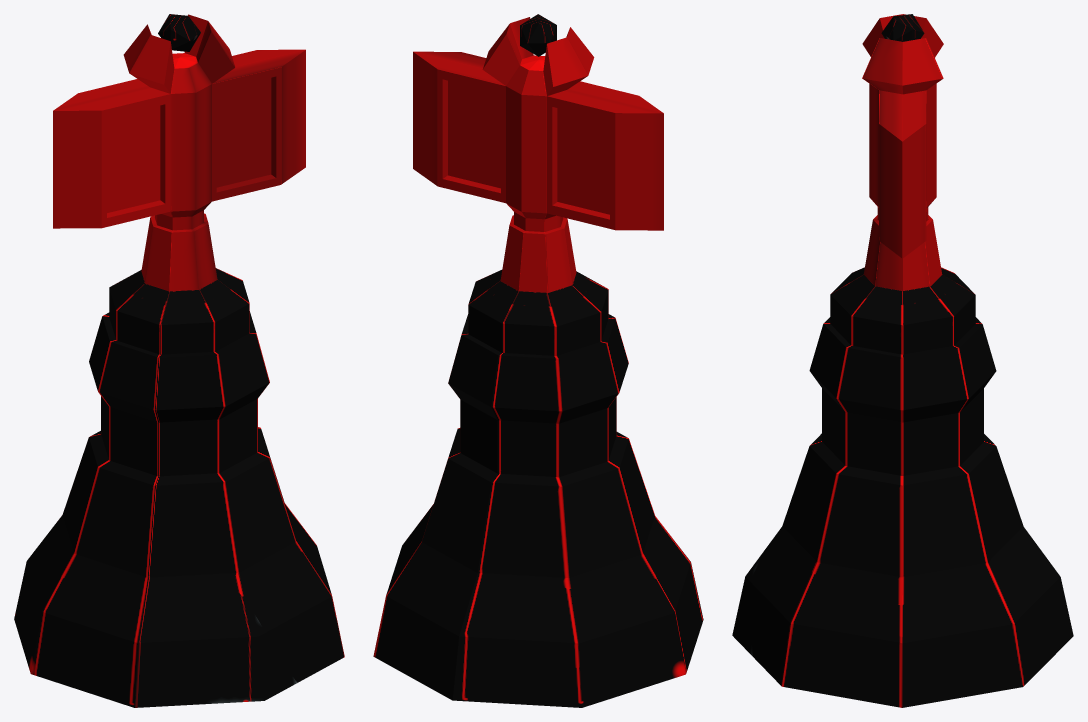
The picture shows the model from 3 angles, left to right: view 1: azimuth 30°, elevation 25°; view 2: azimuth 150°, elevation 25°; view 3: azimuth 270°, elevation 25°; orthographic projection.
Parts seen in each view (by area): view 1: pSphere2, pPlatonic2; view 2: pSphere2, pPlatonic2; view 3: pSphere2, pPlatonic2.
Boxes of the visible parts, x1=… form: pSphere2: x1=14, y1=14, x2=344, y2=707; pPlatonic2: x1=158, y1=14, x2=200, y2=51; pSphere2: x1=373, y1=17, x2=703, y2=707; pPlatonic2: x1=520, y1=14, x2=556, y2=56; pSphere2: x1=732, y1=14, x2=1073, y2=707; pPlatonic2: x1=881, y1=14, x2=924, y2=41.
Bounding box in the file's own units: 3.33 × 6.66 × 3.33.
